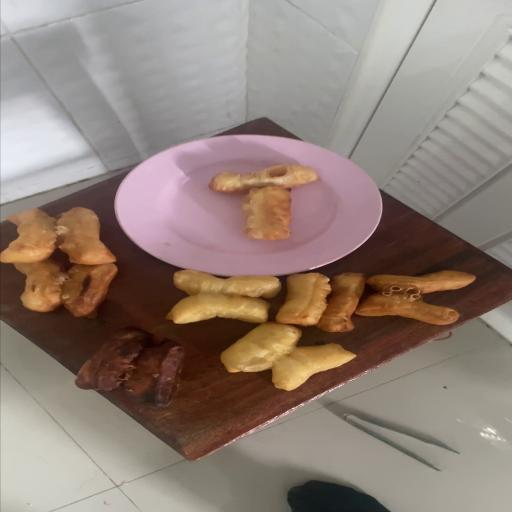street_burnt_defect: (74, 328, 185, 406), (11, 262, 118, 316)
